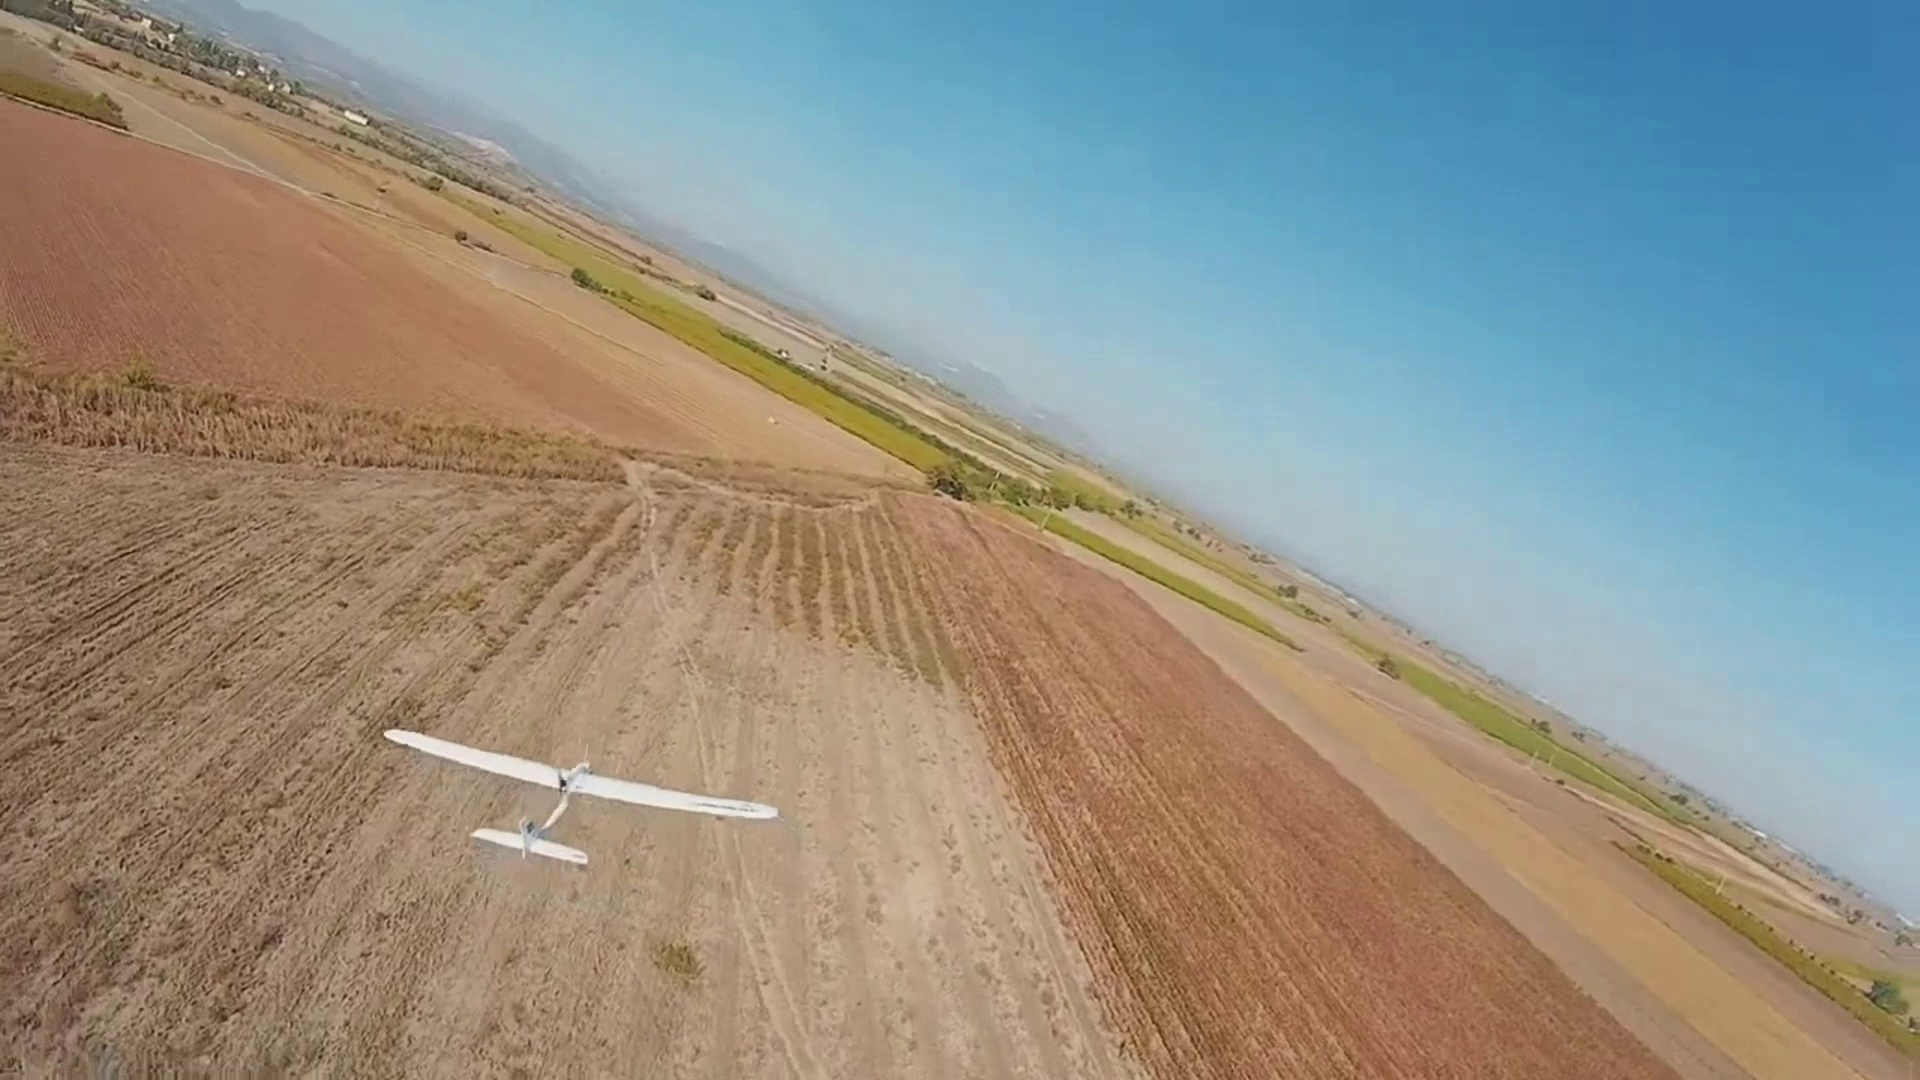airplane: (382, 724, 779, 866)
